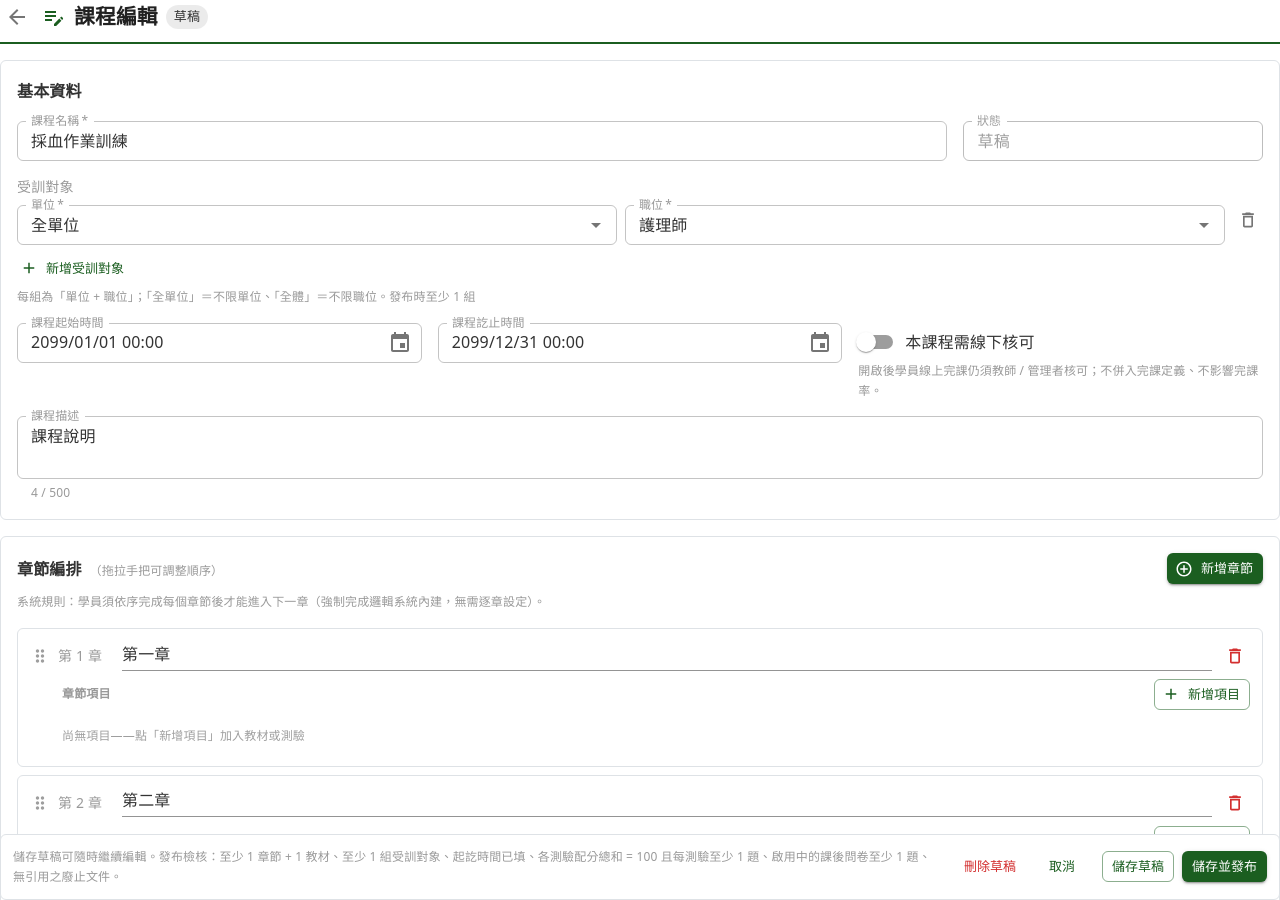
Test: 草稿按「取消」要先講清楚哪一半留著（#804 ①） › 🔴 草稿且基本資料有未存修改時，先跳視窗並把兩半分開講
This screenshot has width=1280, height=900.
In the field showing "採血作業訓練": (482, 141) [17,121,948,161], type "X"
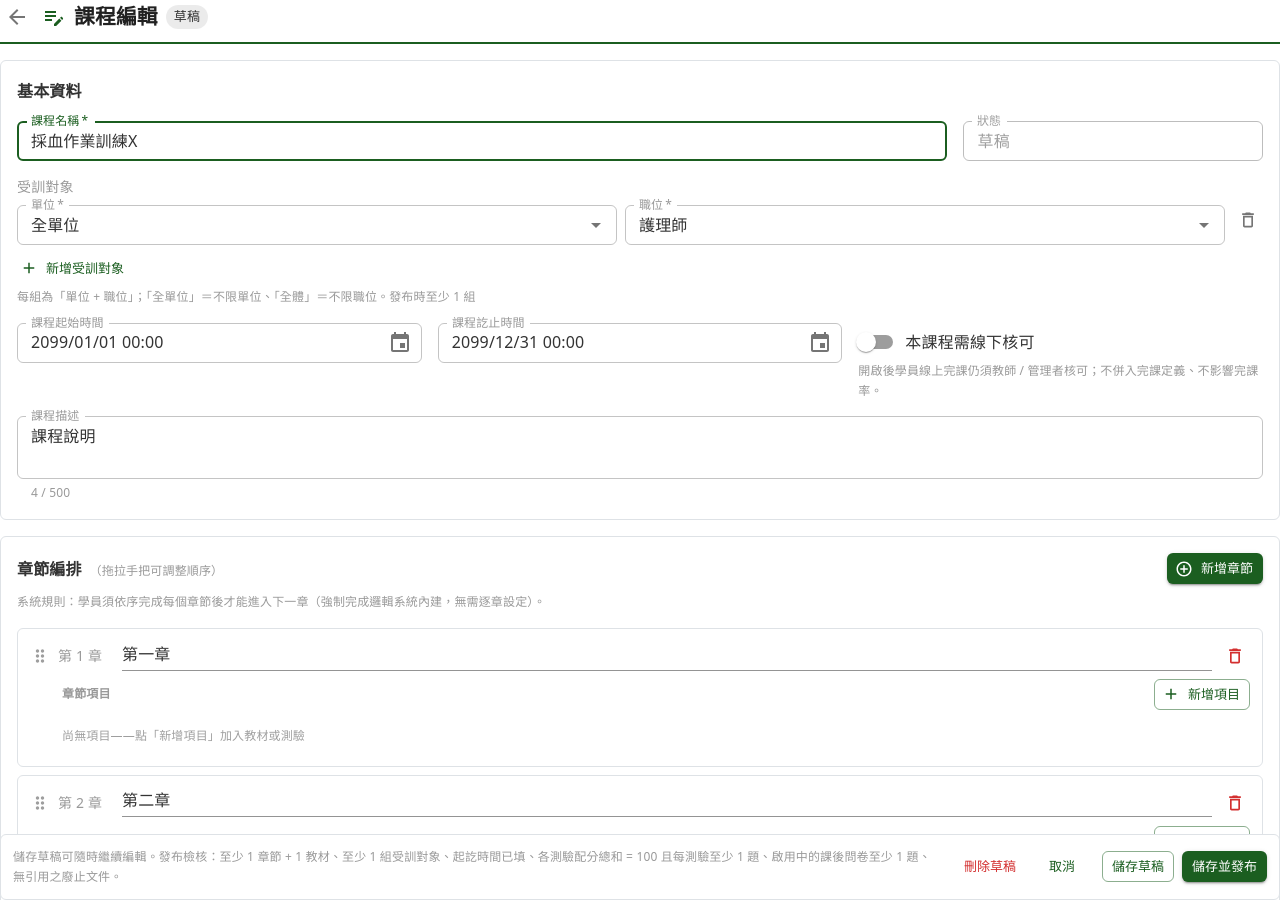
Click the button "取消": (1062, 867) [1030,852,1094,882]
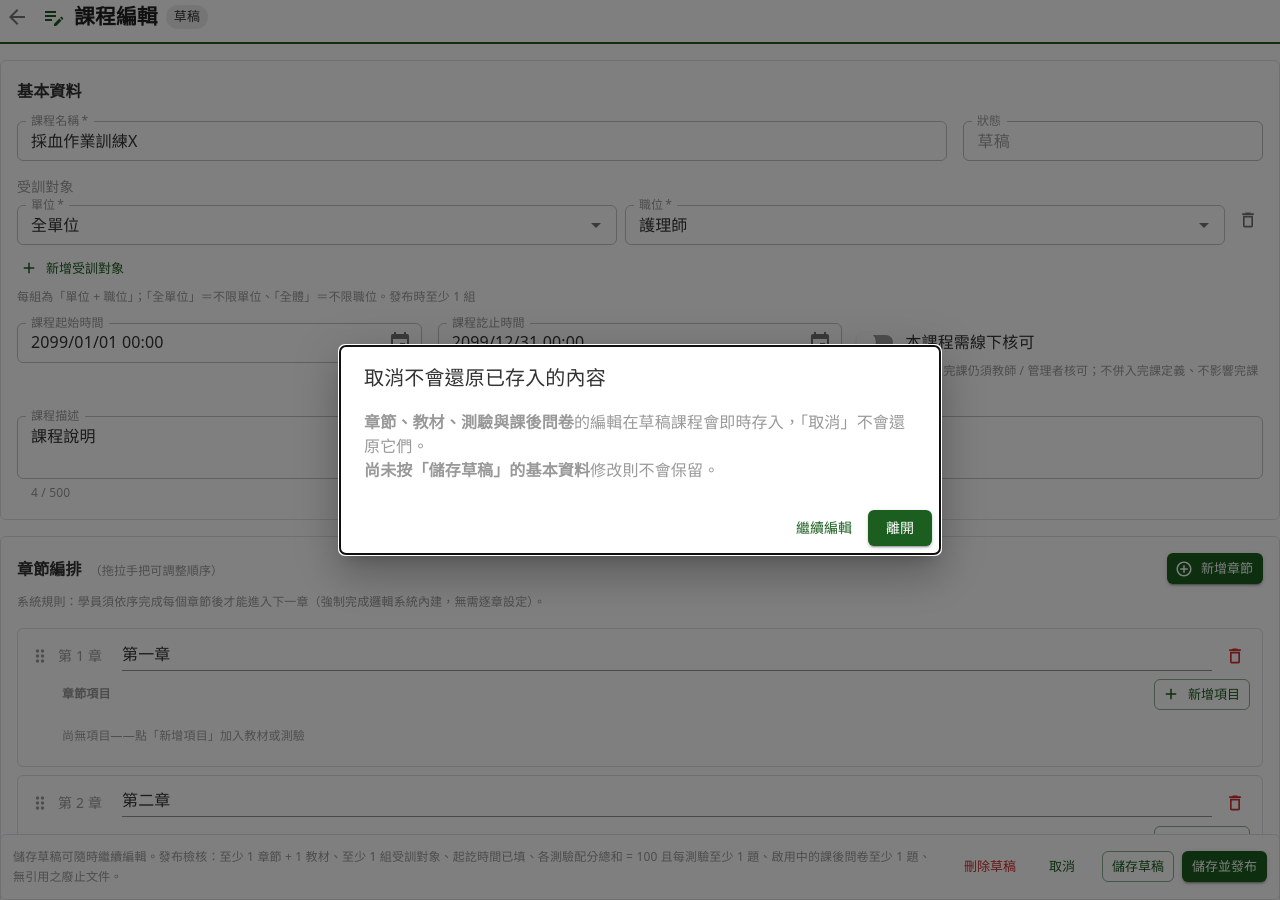
Result: the heading "取消不會還原已存入的內容" is shown at [364,364,606,391]
Result: the dialog shows "章節、教材、測驗與課後問卷的編輯在草稿課程會即時存入，「取消」不會還原它們。" at [340,346,940,554]
Result: the dialog shows "尚未按「儲存草稿」的基本資料修改則不會保留。" at [340,346,940,554]
